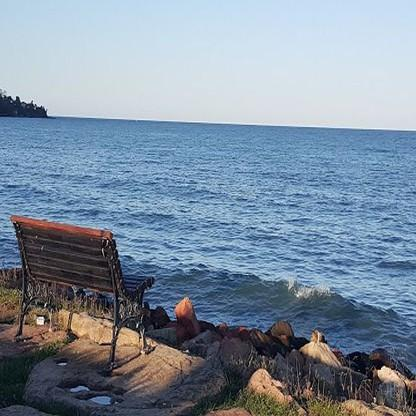obstacle: (5, 207, 164, 379)
